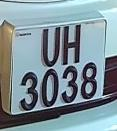0: (38, 67, 62, 111)
3: (16, 68, 40, 113), (60, 65, 80, 106)
8: (79, 61, 99, 101)
H: (61, 21, 84, 67)
U: (40, 23, 63, 69)
